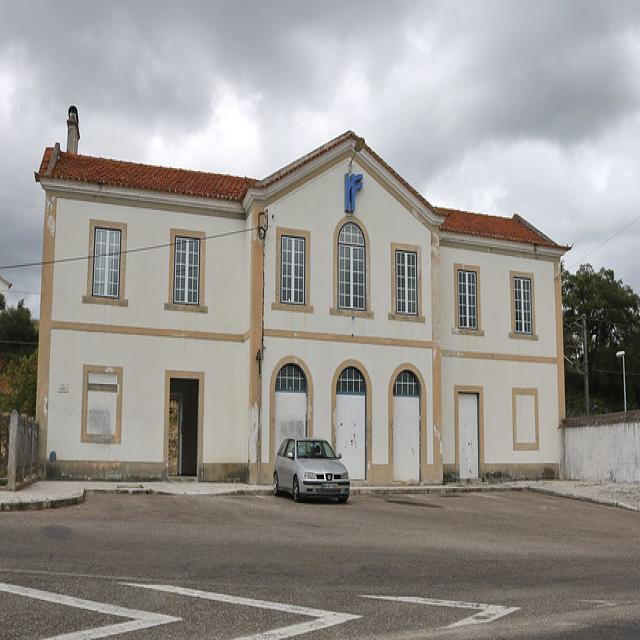Normal_building: (31, 126, 572, 484)
